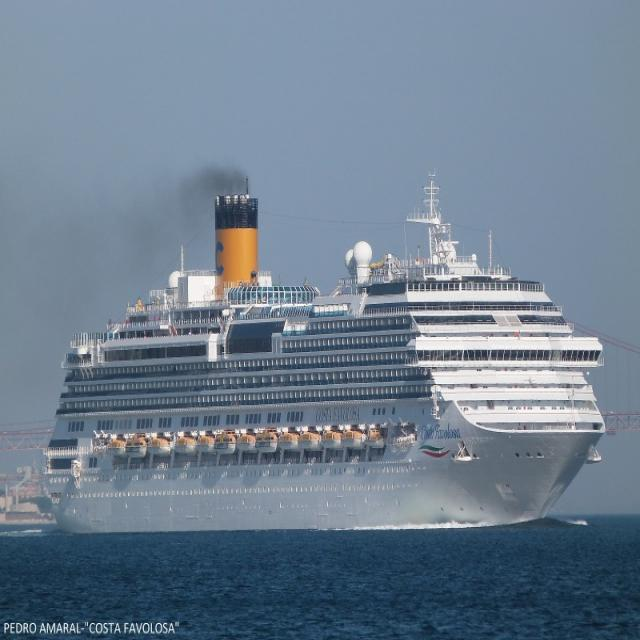cruises: (43, 163, 610, 543)
